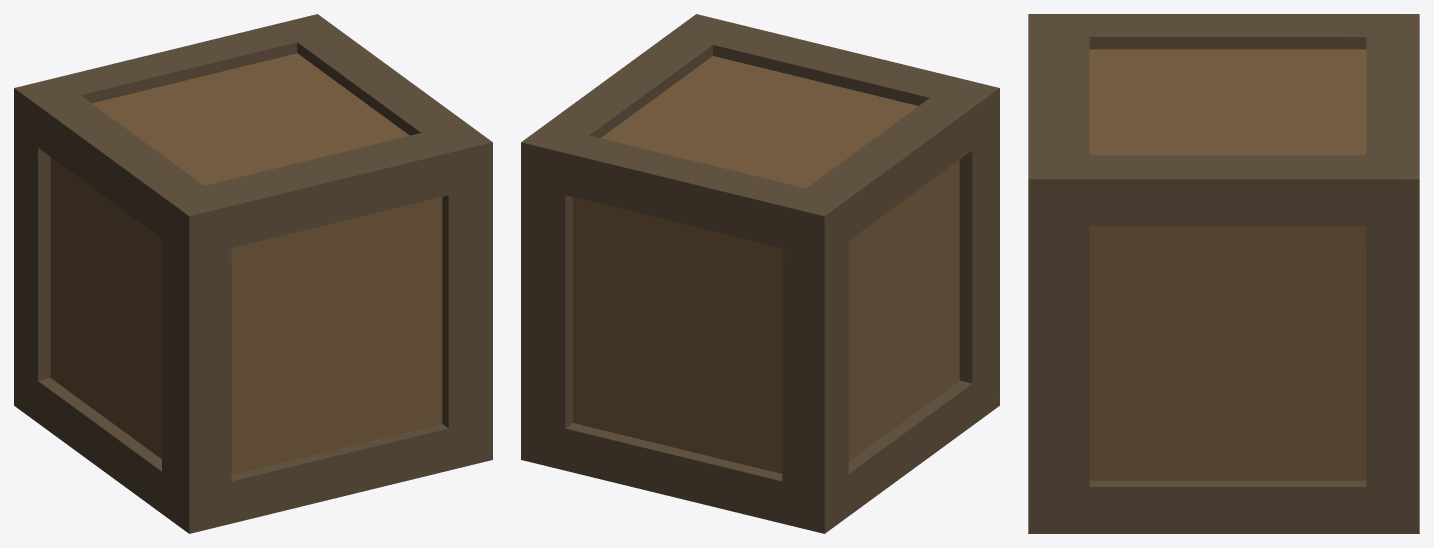
File: Crate-A01.fbx
3 renders of one model, left to right at view 1: azimuth 30°, elevation 25°; view 2: azimuth 150°, elevation 25°; view 3: azimuth 270°, elevation 25°, orthographic. The views are drawn at different scales.
Visible parts, largest first — view 1: Crate-A01; view 2: Crate-A01; view 3: Crate-A01.
Part boxes in pixels (x1,y1,x2,y2): Crate-A01: [14, 14, 492, 533]; Crate-A01: [521, 14, 999, 533]; Crate-A01: [1028, 14, 1419, 533].
Bounding box in the file's own units: 77.68 × 77.68 × 77.68.
